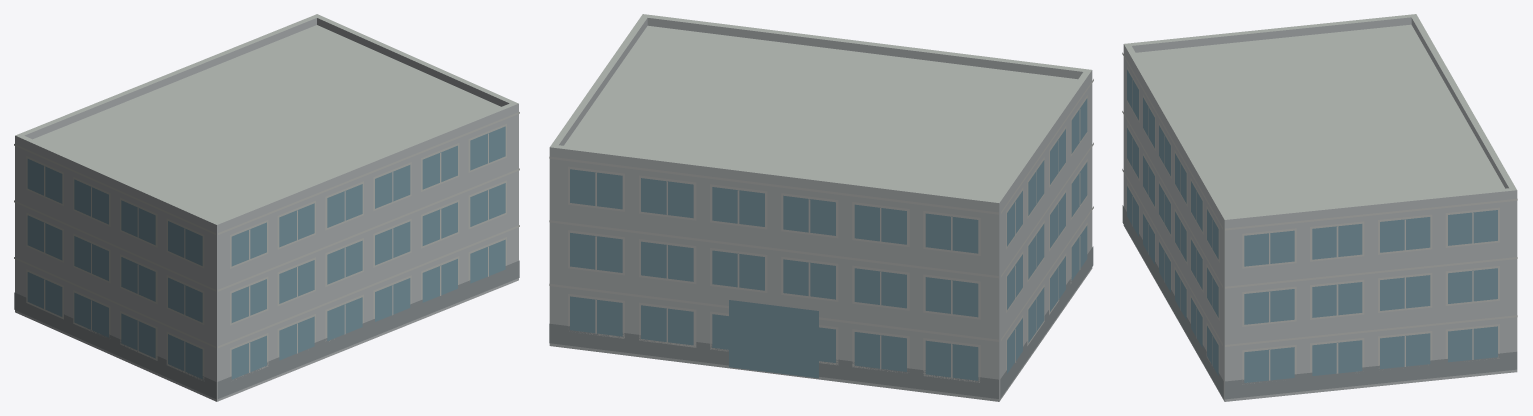
File: public-46bb2e82-2518-4918-b019-fe5615d224f2.glb
The picture shows the model from 3 angles, left to right: view 1: azimuth 30°, elevation 25°; view 2: azimuth 150°, elevation 25°; view 3: azimuth 270°, elevation 25°; orthographic projection. The views are drawn at different scales.
Visible parts, largest first — view 1: public-46bb2e82-2518-4918-b019-fe5615d224f2; view 2: public-46bb2e82-2518-4918-b019-fe5615d224f2; view 3: public-46bb2e82-2518-4918-b019-fe5615d224f2.
Part boxes in pixels (x1,y1,x2,y2): public-46bb2e82-2518-4918-b019-fe5615d224f2: [14, 14, 519, 401]; public-46bb2e82-2518-4918-b019-fe5615d224f2: [549, 14, 1093, 401]; public-46bb2e82-2518-4918-b019-fe5615d224f2: [1122, 14, 1517, 401].
Bounding box in the file's own units: 22.36 × 9.15 × 18.07.
